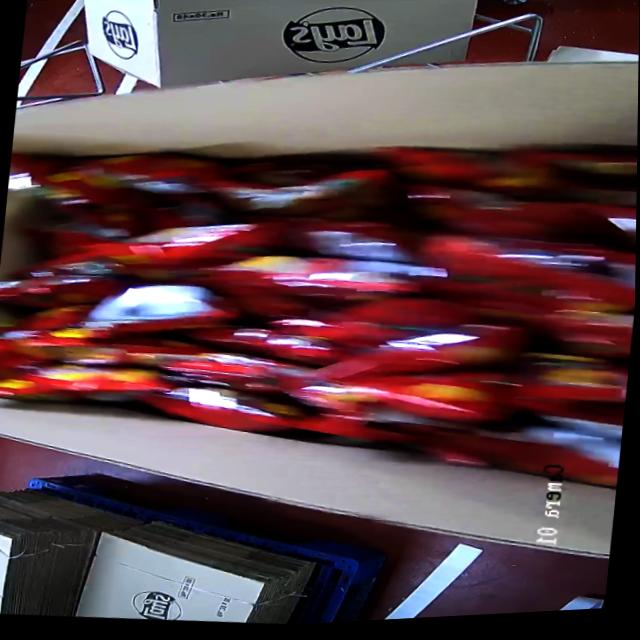MASALA: (0, 111, 638, 495)
